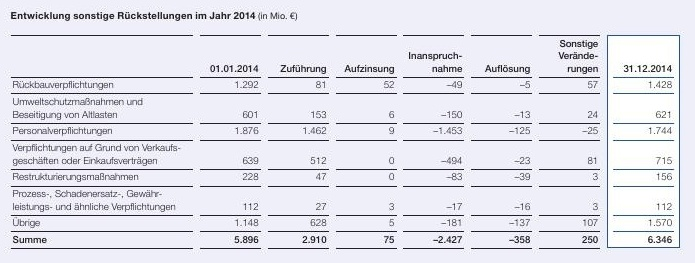table: (0, 0, 695, 263)
